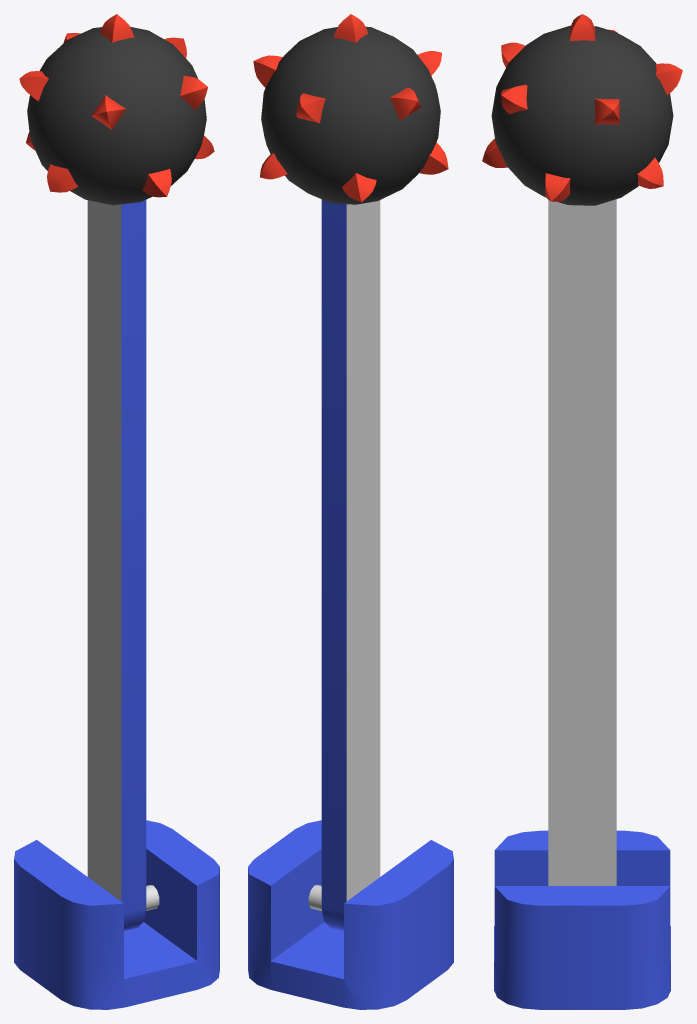
The model's file is Crane Bomb.fbx.
The picture shows the model from 3 angles, left to right: view 1: azimuth 30°, elevation 25°; view 2: azimuth 150°, elevation 25°; view 3: azimuth 270°, elevation 25°; orthographic projection.
Visible parts, largest first — view 1: Crane Part Bomb, Crane Bomb Base, Ball Bomb.001; view 2: Crane Part Bomb, Crane Bomb Base, Ball Bomb.001; view 3: Crane Part Bomb, Ball Bomb.001, Crane Bomb Base.
Part boxes in pixels (<box>): Crane Part Bomb: <box>87,200,146,930</box>; Crane Bomb Base: <box>14,820,219,1009</box>; Ball Bomb.001: <box>19,14,214,205</box>; Crane Part Bomb: <box>321,199,380,930</box>; Crane Bomb Base: <box>248,820,453,1009</box>; Ball Bomb.001: <box>253,14,448,204</box>; Crane Part Bomb: <box>548,199,616,885</box>; Ball Bomb.001: <box>482,14,682,205</box>; Crane Bomb Base: <box>494,830,670,1009</box>.
Bounding box in the file's own units: 0.8553 × 4.73 × 0.8993.
